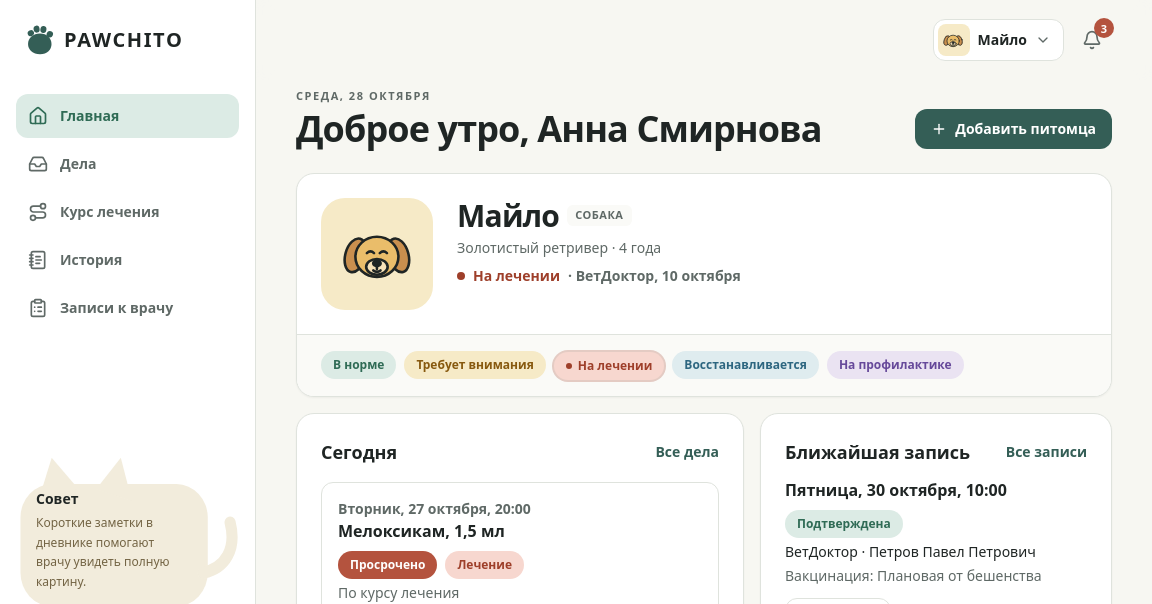
Test: уведомления в шапке › «Прочитать все» обнуляет счётчик
Click the button named "Уведомления, непрочитанных: 3": (1092, 40) [1072,20,1112,60]
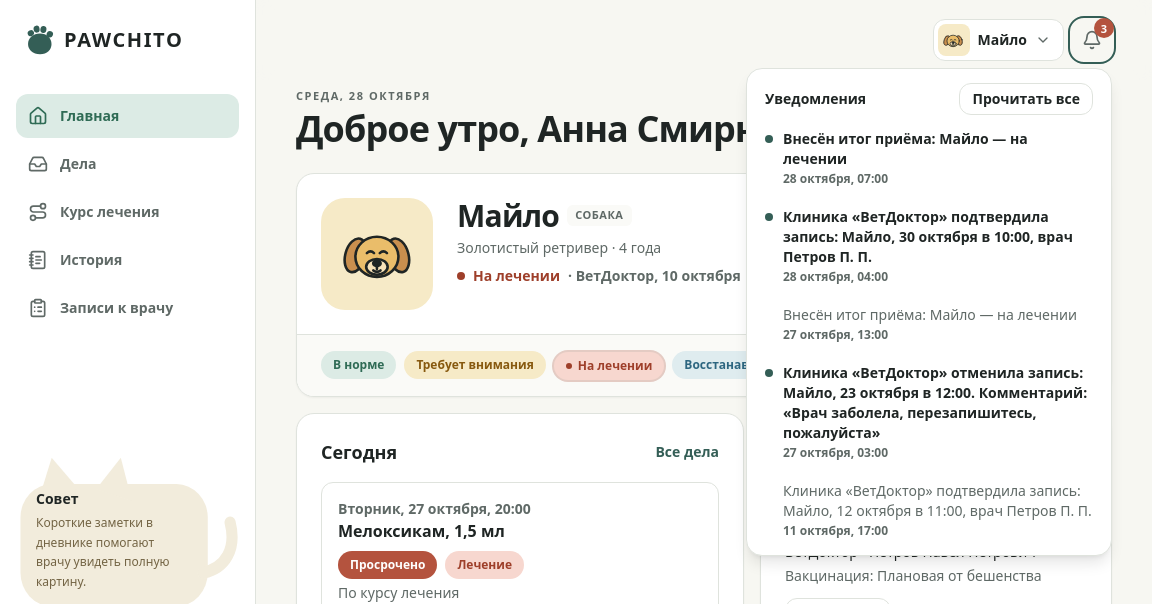
Click the button "Прочитать все": (1026, 99) [960,83,1093,115]
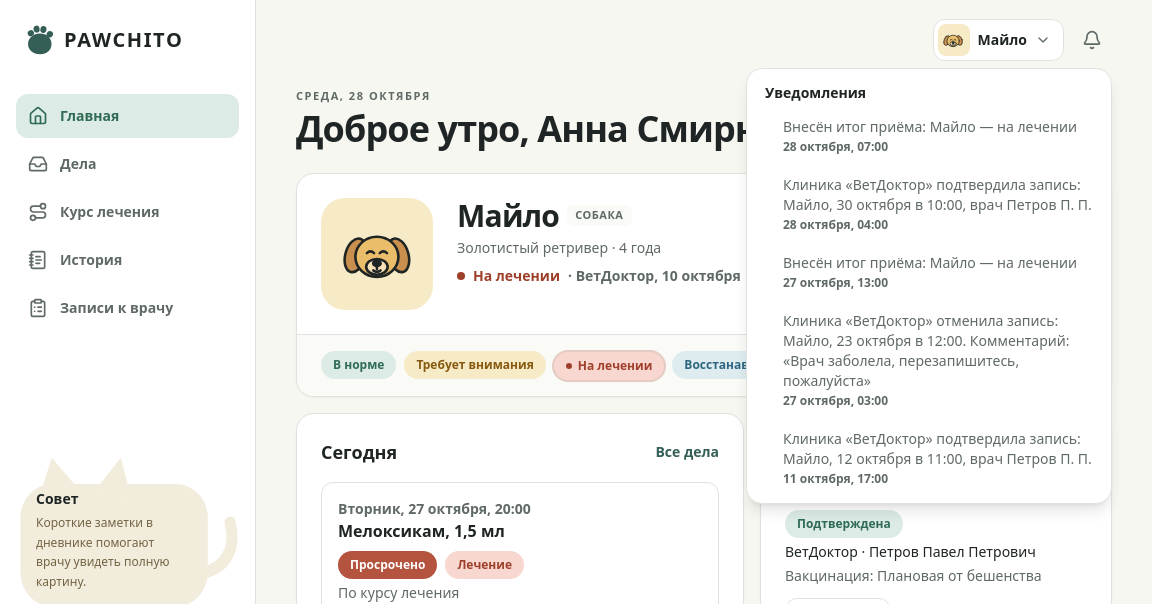
Expected: the button named "Уведомления" is shown, [1072,20,1112,60]
Expected: the button "Прочитать все" is gone
